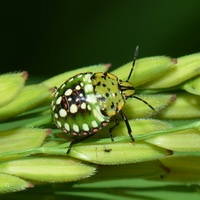insect: (51, 46, 154, 144)
